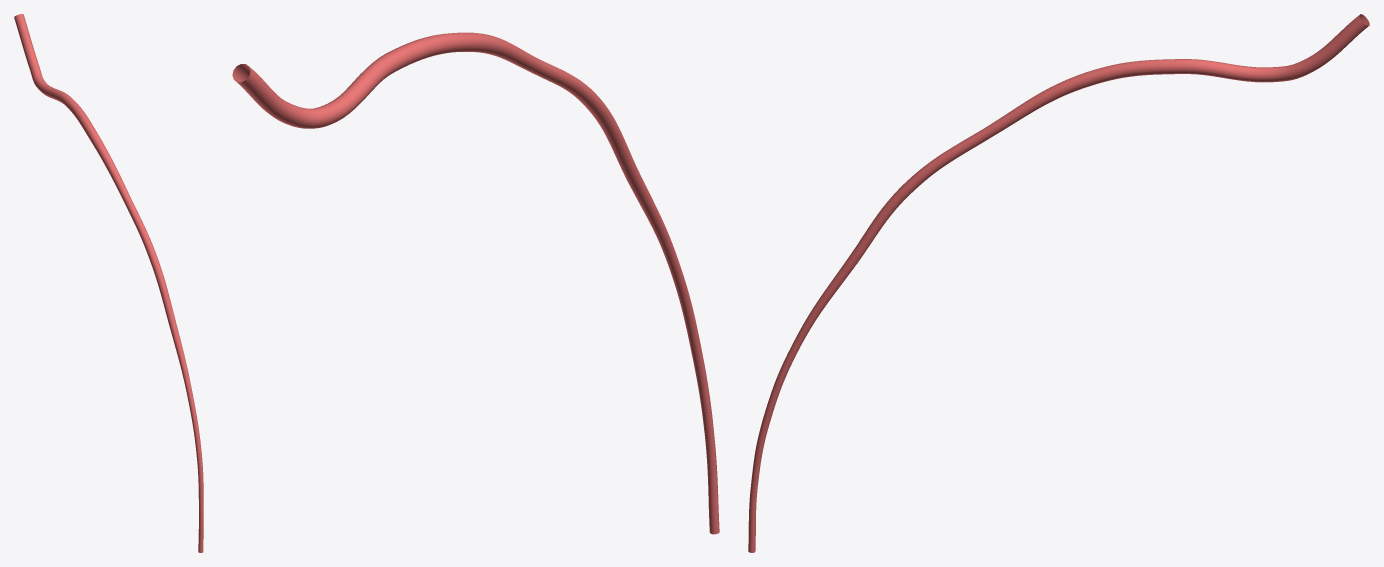
Rendered from Deep_artery_of_penis.l_BezierCurve.189.glb.
The picture shows the model from 3 angles, left to right: view 1: azimuth 30°, elevation 25°; view 2: azimuth 150°, elevation 25°; view 3: azimuth 270°, elevation 25°; orthographic projection. The views are drawn at different scales.
Parts seen in each view (by area): view 1: Deep_artery_of_penis.l_BezierCurve.189; view 2: Deep_artery_of_penis.l_BezierCurve.189; view 3: Deep_artery_of_penis.l_BezierCurve.189.
Boxes of the visible parts, x1,y1,x2,y2 form: Deep_artery_of_penis.l_BezierCurve.189: (14,14,203,552); Deep_artery_of_penis.l_BezierCurve.189: (232,32,719,534); Deep_artery_of_penis.l_BezierCurve.189: (748,14,1369,552).
Size of the model in its own units: 0.00502 by 0.0537 by 0.0544.
